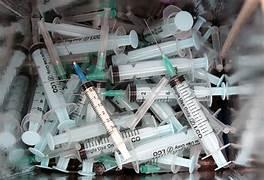Syringe: (73, 63, 130, 158), (170, 76, 228, 168), (31, 43, 73, 129), (115, 129, 198, 171), (108, 31, 201, 64), (0, 76, 28, 150), (129, 77, 168, 128), (47, 121, 106, 149), (38, 20, 66, 79), (21, 80, 46, 145), (0, 46, 27, 105), (143, 11, 192, 41), (91, 8, 109, 78), (109, 60, 165, 82), (29, 119, 57, 157), (120, 124, 173, 143), (150, 102, 183, 131), (193, 83, 251, 99), (55, 35, 99, 55), (45, 22, 99, 36), (38, 0, 75, 13), (63, 74, 80, 102), (111, 96, 138, 110), (192, 16, 206, 30)
